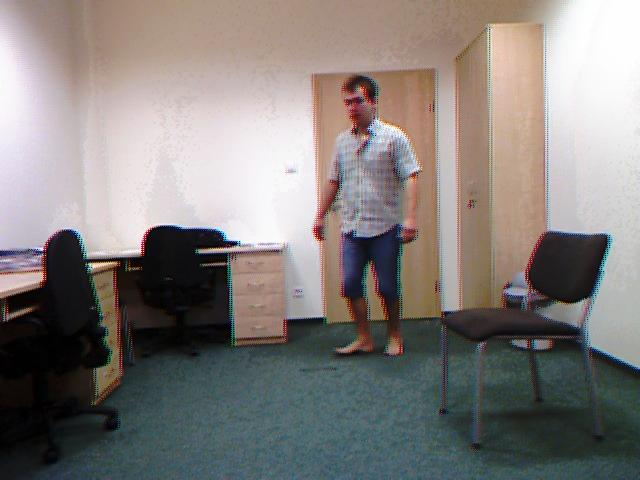standing: (300, 70, 432, 368)
